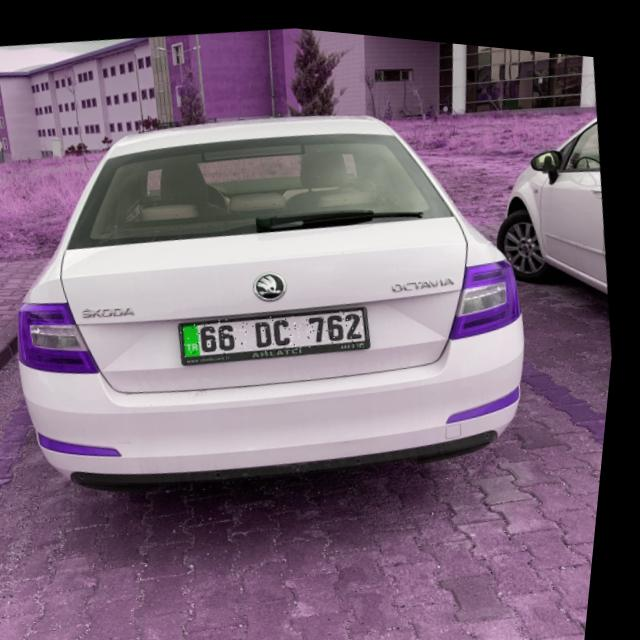license_plate: (182, 288, 376, 367)
